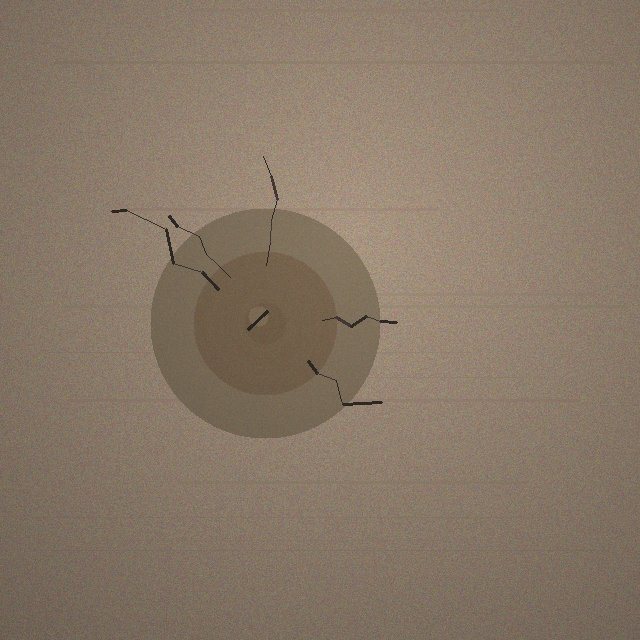crack: (150, 208, 380, 438)
